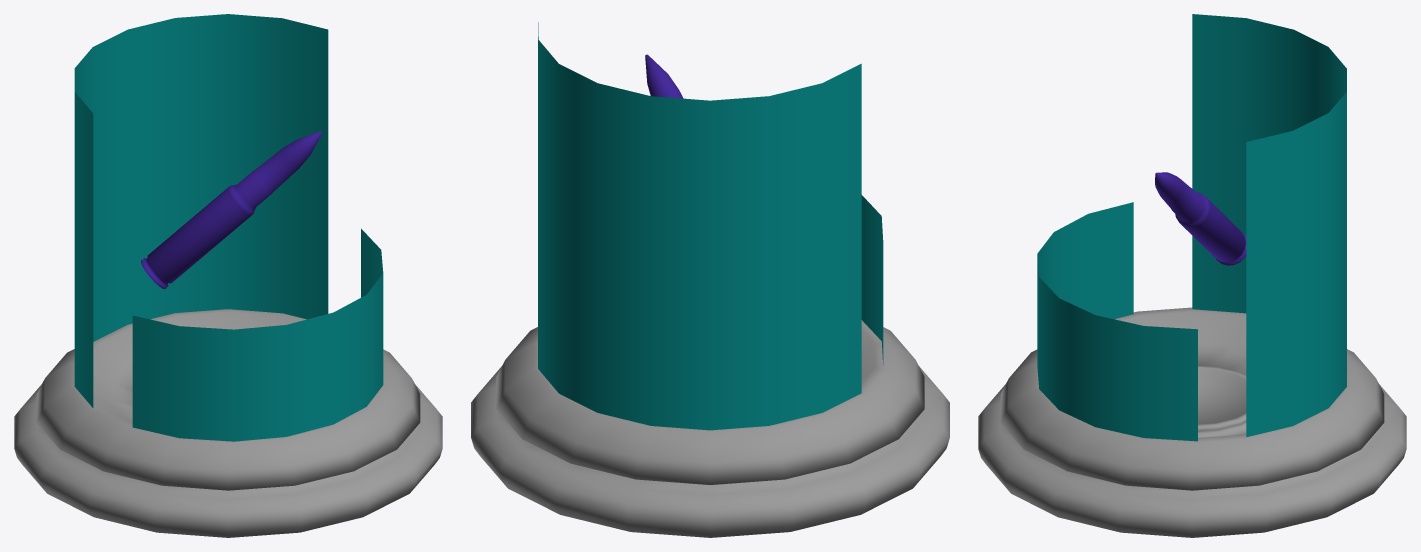
The picture shows the model from 3 angles, left to right: view 1: azimuth 30°, elevation 25°; view 2: azimuth 150°, elevation 25°; view 3: azimuth 270°, elevation 25°; orthographic projection. The views are drawn at different scales.
Parts seen in each view (by area): view 1: 1_low002; view 2: 1_low002; view 3: 1_low002.
Boxes of the visible parts, x1=… form: 1_low002: x1=14, y1=14, x2=442, y2=537; 1_low002: x1=471, y1=22, x2=949, y2=537; 1_low002: x1=978, y1=14, x2=1406, y2=537.
Size of the model in its own units: 25.33 by 23.73 by 24.95.
